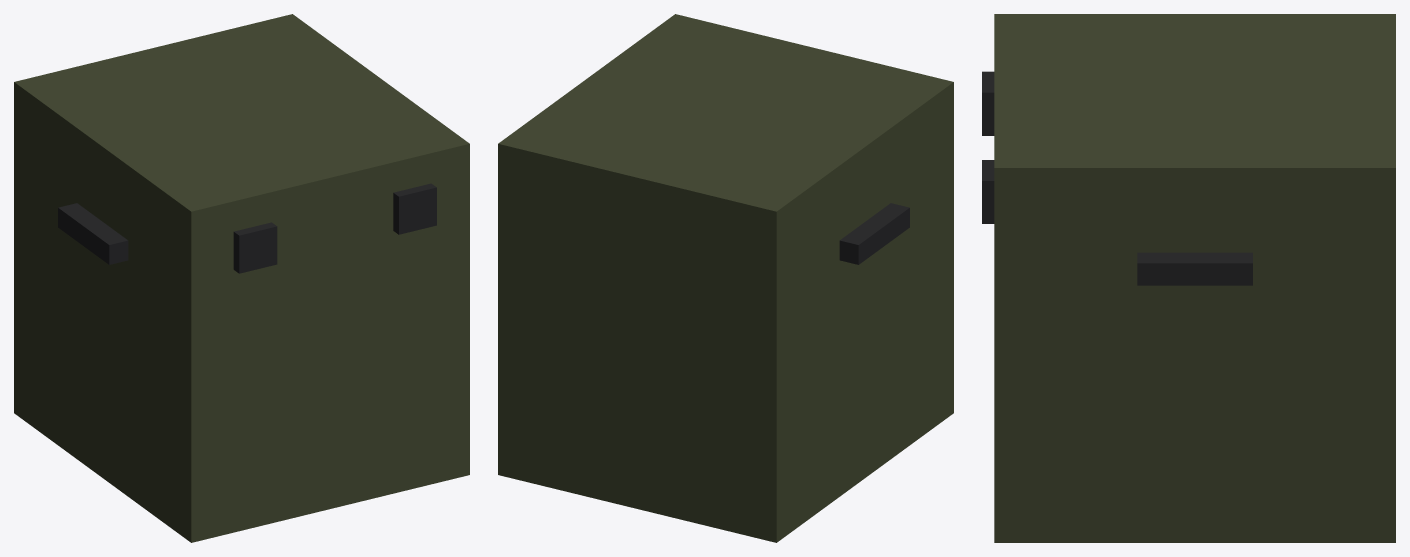
Rendered from crate_cube.glb.
The picture shows the model from 3 angles, left to right: view 1: azimuth 30°, elevation 25°; view 2: azimuth 150°, elevation 25°; view 3: azimuth 270°, elevation 25°; orthographic projection. The views are drawn at different scales.
Parts seen in each view (by area): view 1: CrateCube_Body, CrateCube_Lid; view 2: CrateCube_Body, CrateCube_Lid; view 3: CrateCube_Body, CrateCube_Lid.
Boxes of the visible parts, x1=… form: CrateCube_Body: x1=14, y1=135, x2=469, y2=542; CrateCube_Lid: x1=14, y1=14, x2=469, y2=264; CrateCube_Body: x1=498, y1=135, x2=953, y2=542; CrateCube_Lid: x1=498, y1=14, x2=953, y2=264; CrateCube_Body: x1=982, y1=71, x2=1395, y2=542; CrateCube_Lid: x1=994, y1=14, x2=1395, y2=227.
Size of the model in its own units: 0.5 by 0.5 by 0.5.
